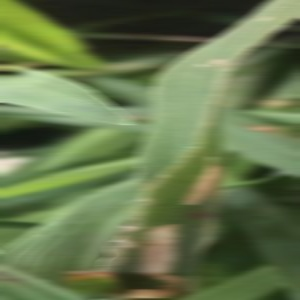Brown_Spot: (132, 209, 191, 282), (177, 154, 218, 205)
